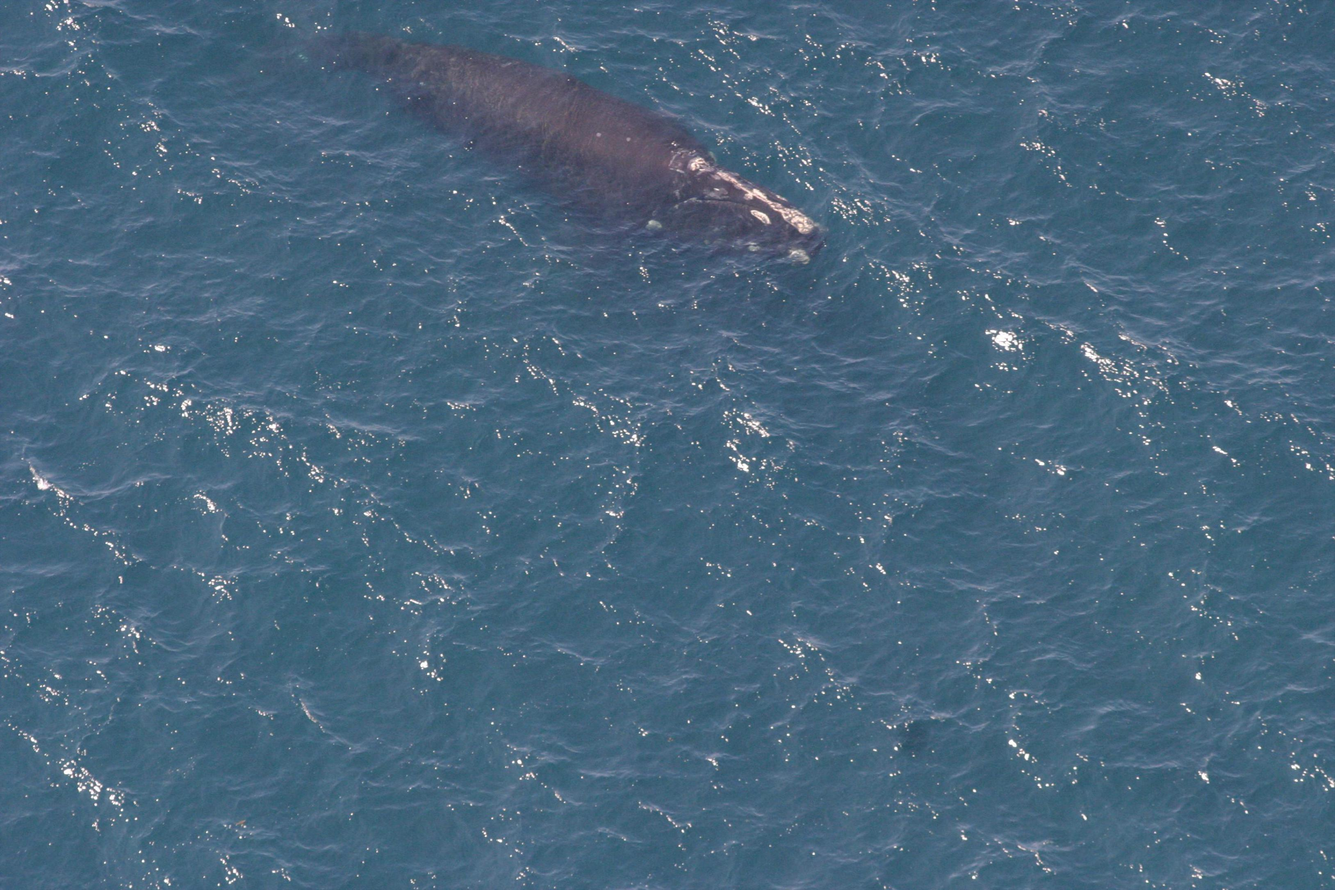whale: (232, 0, 837, 300)
